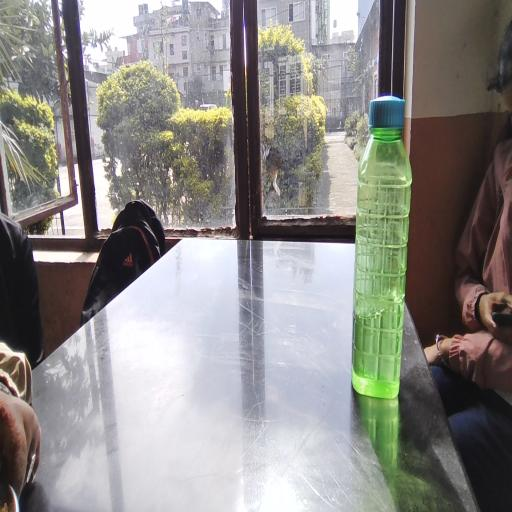Bottle: (355, 96, 421, 396)
